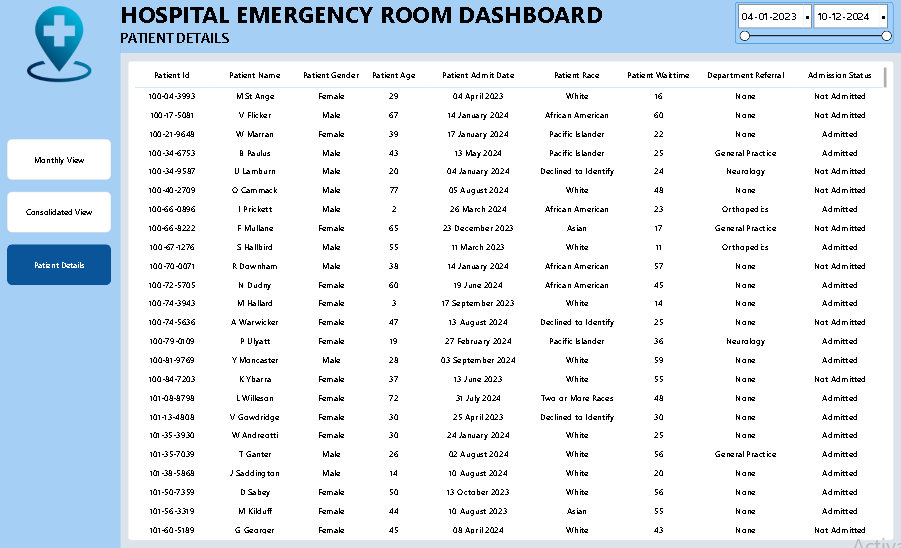

The page's visual inventory and layout, read from the dashboard file:
{"tool":"powerbi","page":{"name":"Patient Details","canvas":[2300,1400],"ordinal":2},"visuals":[{"type":"shape","box":[0,0,312,1400],"z":7000},{"type":"shape","box":[311.4,0,1988.6,140],"z":8000},{"type":"textbox","box":[311.4,0,1305.7,80],"z":9000},{"type":"textbox","box":[311.4,80,420,51.4],"z":10000},{"type":"slicer","fields":{"Values":["Date Table.Date"]},"box":[1877.1,11.4,402.9,105.7],"z":12000},{"type":"image","box":[22.9,20,265.7,194.3],"z":39000},{"type":"tableEx","fields":{"Values":["Hospital ER_Data.Patient Id","Hospital ER_Data.Patient Full Name","Hospital ER_Data.Patient Gender","Sum(Hospital ER_Data.Patient Age)","Hospital ER_Data.Patient Admit Date","Hospital ER_Data.Patient Race","Sum(Hospital ER_Data.Patient Waittime)","Hospital ER_Data.Department Referral","Hospital ER_Data.Admission Status"]},"box":[331.4,160,1948.6,1220],"z":39001},{"type":"pageNavigator","box":[22.9,360,265.7,374.3],"z":39002}]}

Visuals, with their boxes in screenshot pixels (x1, y1, x2, y2), scaled from the page's 2300x1400 canvas onto the 901x548 screenshot:
shape: 0,0,122,547
shape: 122,0,900,55
textbox: 122,0,633,31
textbox: 122,31,287,51
slicer - Date Table.Date: 735,4,893,46
image: 9,8,113,84
tableEx - Hospital ER_Data.Patient Id x Hospital ER_Data.Patient Full Name: 130,63,893,540
pageNavigator: 9,141,113,287
